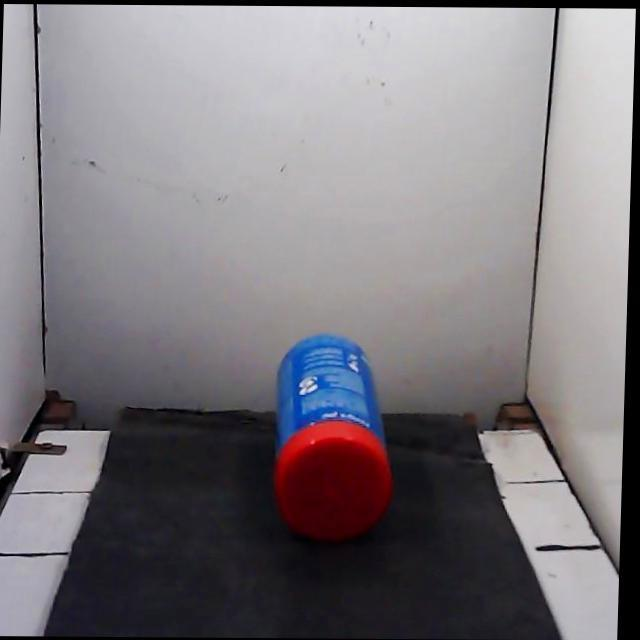plastico: (274, 334, 392, 541)
